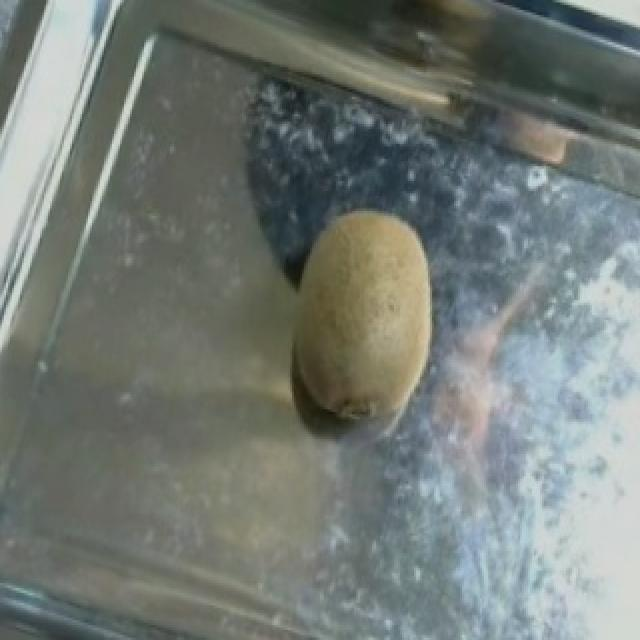Fruit: (252, 178, 474, 452)
